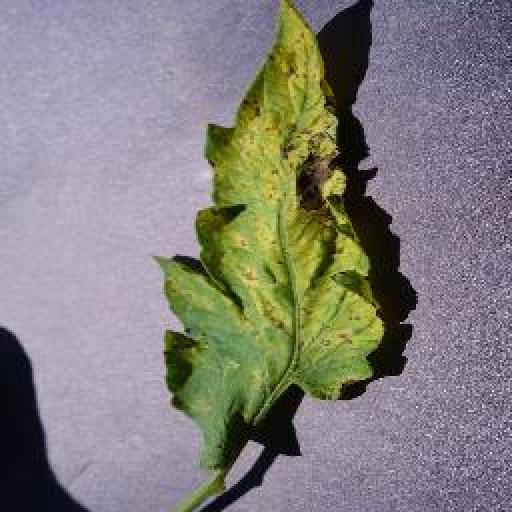disease_tomato: (156, 0, 384, 468)
